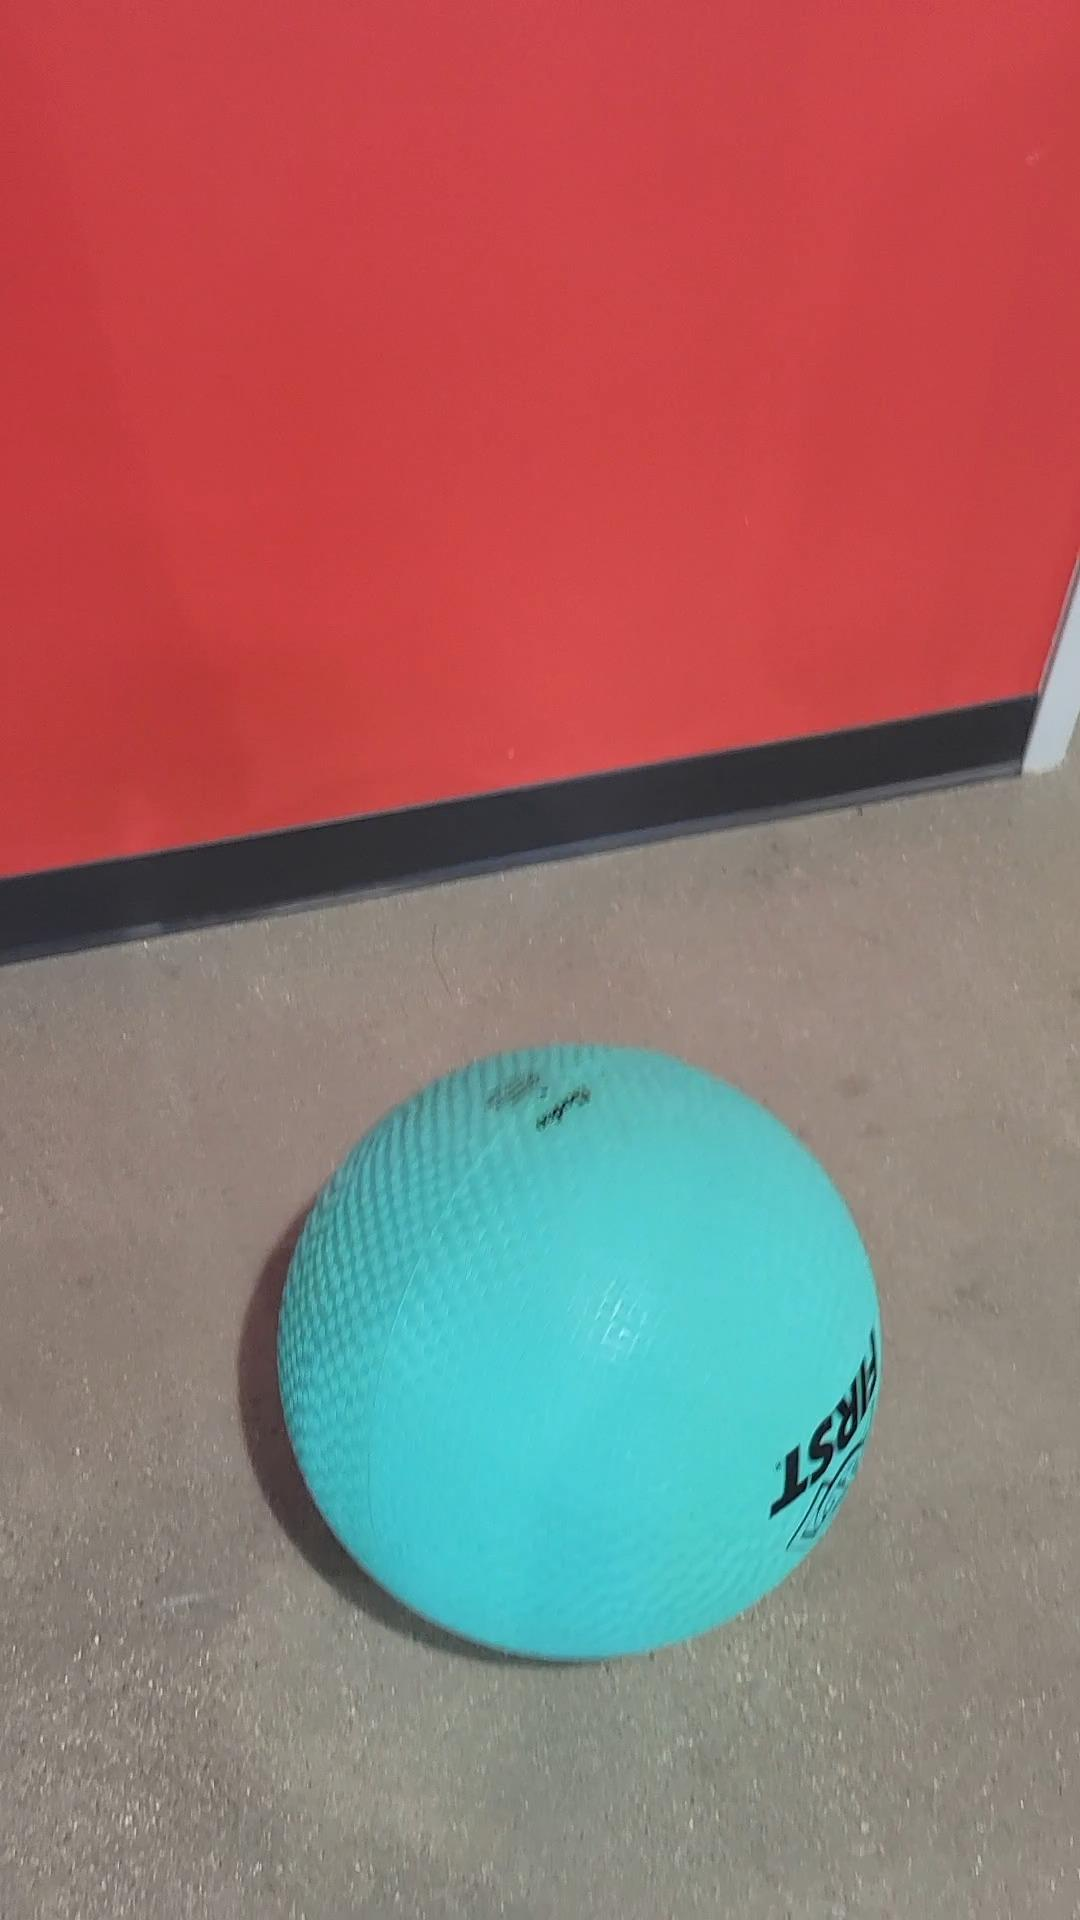algae: (286, 1046, 866, 1665)
